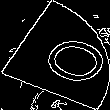O_NW: (11, 24, 99, 86)
